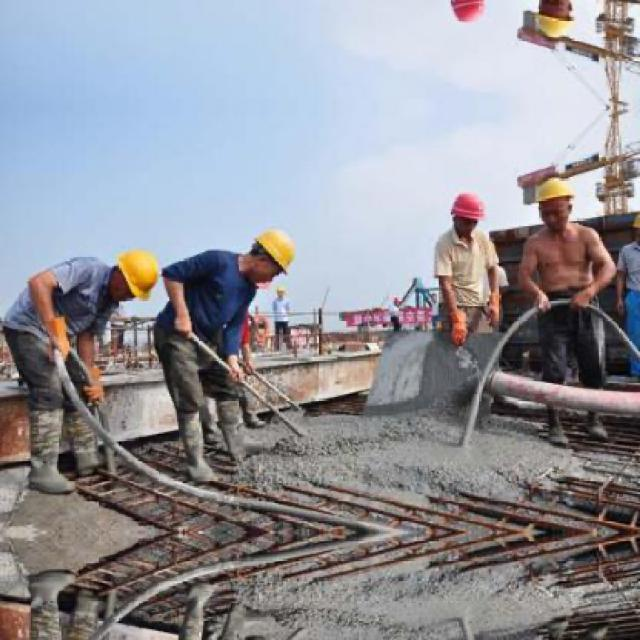helmet: (240, 220, 305, 286), (106, 243, 166, 303), (531, 172, 578, 228), (449, 186, 489, 239), (531, 0, 580, 42), (448, 0, 489, 28)
